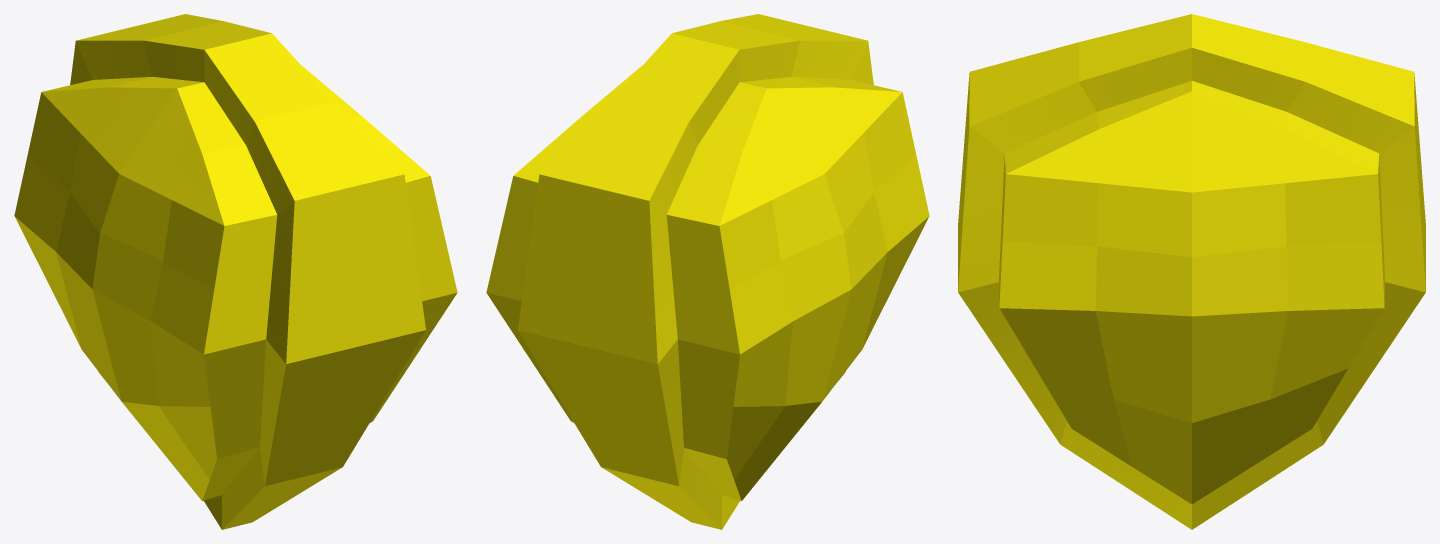
The model's file is shield.fbx.
3 renders of one model, left to right at view 1: azimuth 30°, elevation 25°; view 2: azimuth 150°, elevation 25°; view 3: azimuth 270°, elevation 25°, orthographic.
Visible parts, largest first — view 1: shield; view 2: shield; view 3: shield.
Boxes of the visible parts, x1,y1,x2,y2 form: shield: [14, 14, 457, 529]; shield: [486, 14, 929, 529]; shield: [958, 14, 1425, 529].
Size of the model in its own units: 129 by 208 by 179.
Materials: 1 (1 with a texture image).
